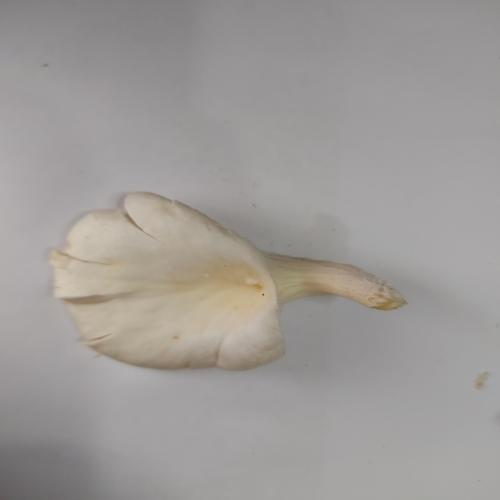Oyster Mushroom: (48, 190, 408, 372)
